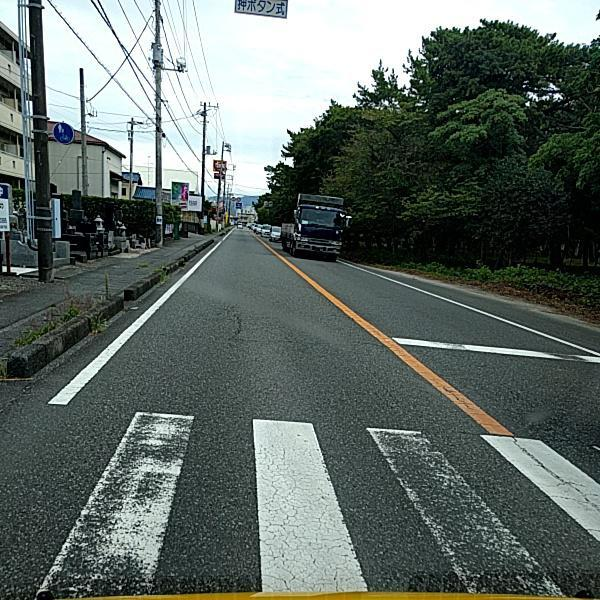D00: (227, 300, 248, 343)
D43: (33, 412, 594, 599)
